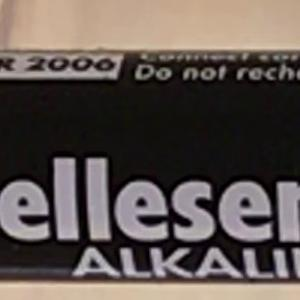ALK: (62, 238, 190, 287)
